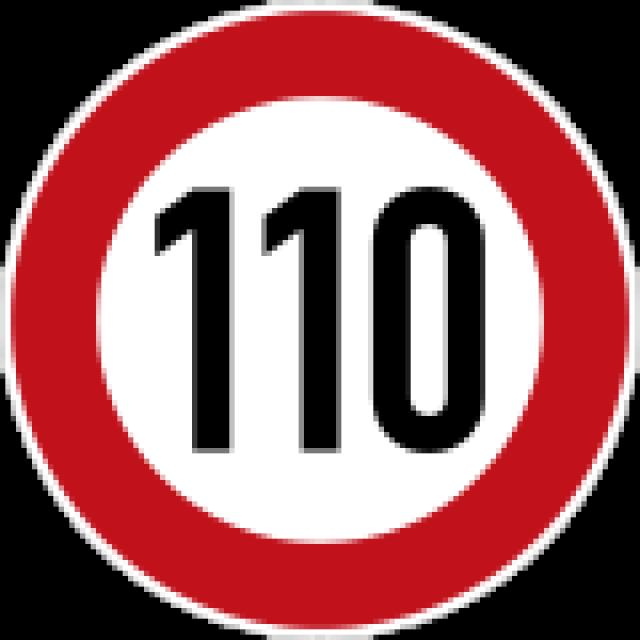Speed Limit -110-: (153, 186, 490, 452)
